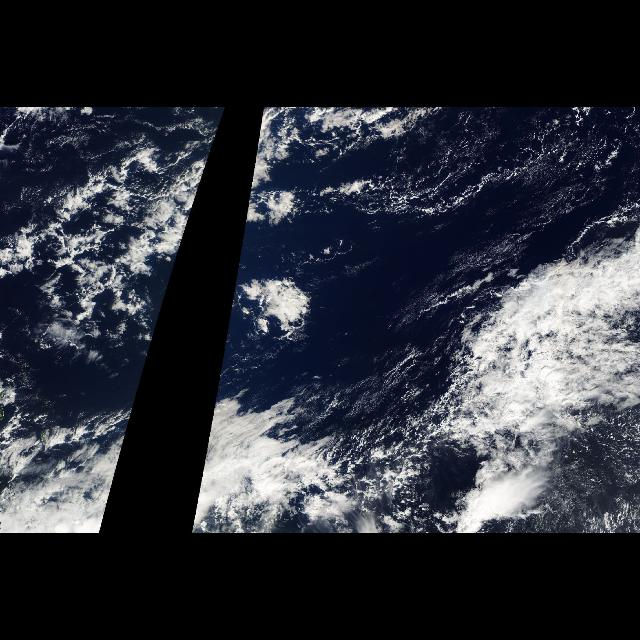Fish: (13, 154, 210, 346), (222, 154, 332, 346)
Flower: (222, 265, 376, 361)
Gravel: (2, 107, 226, 350), (245, 107, 639, 217)
